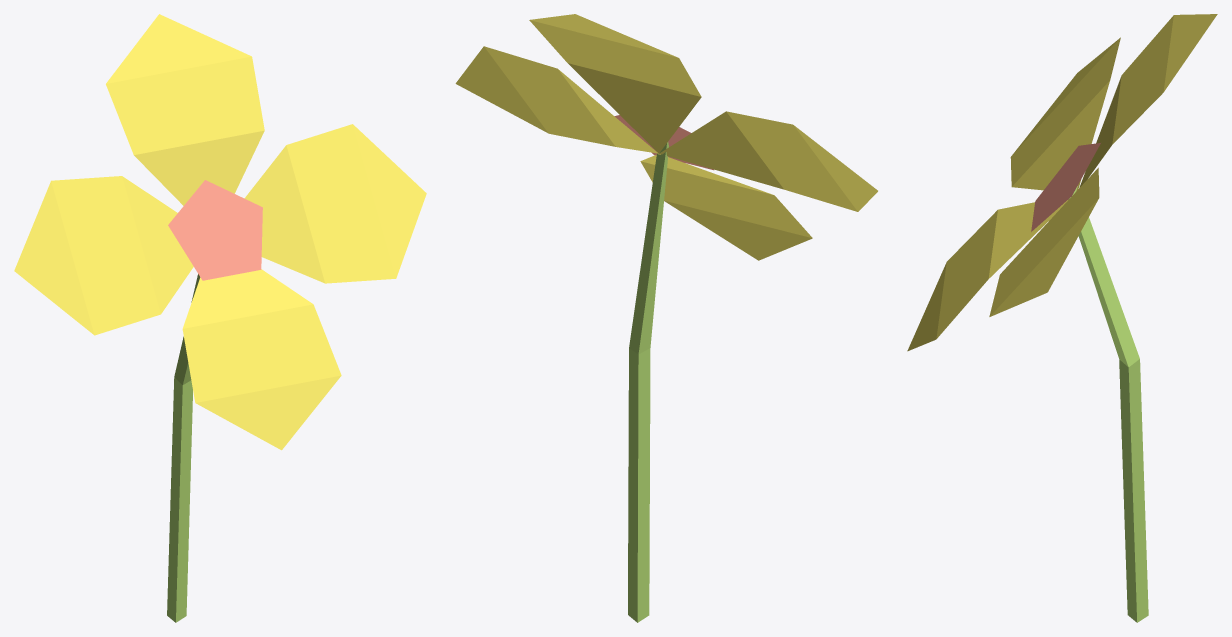
The model's file is Flower_d_OneS_04.fbx.
The picture shows the model from 3 angles, left to right: view 1: azimuth 30°, elevation 25°; view 2: azimuth 150°, elevation 25°; view 3: azimuth 270°, elevation 25°; orthographic projection. The views are drawn at different scales.
Parts seen in each view (by area): view 1: Flower_d_OneS_04; view 2: Flower_d_OneS_04; view 3: Flower_d_OneS_04.
Boxes of the visible parts, left/top/right/bottom form: Flower_d_OneS_04: left=14, top=14, right=426, bottom=622; Flower_d_OneS_04: left=455, top=14, right=877, bottom=622; Flower_d_OneS_04: left=907, top=14, right=1217, bottom=622.
Bounding box in the file's own units: 0.2563 × 0.3511 × 0.161.
